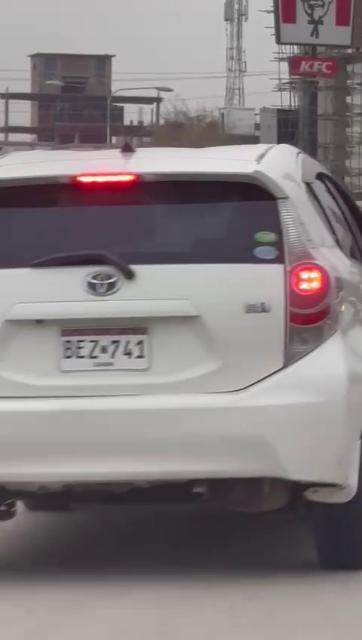plate: (60, 329, 150, 371)
